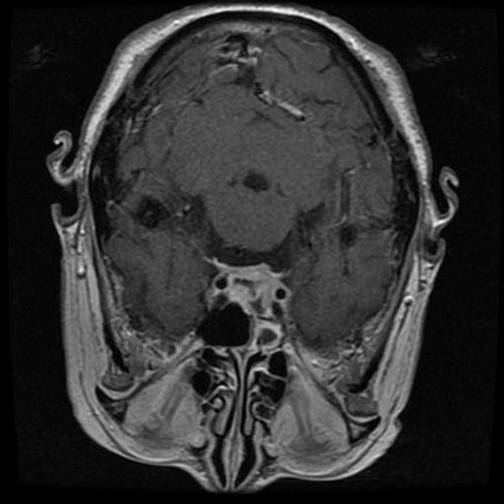Tumour-Pituitary: (207, 253, 289, 329)
